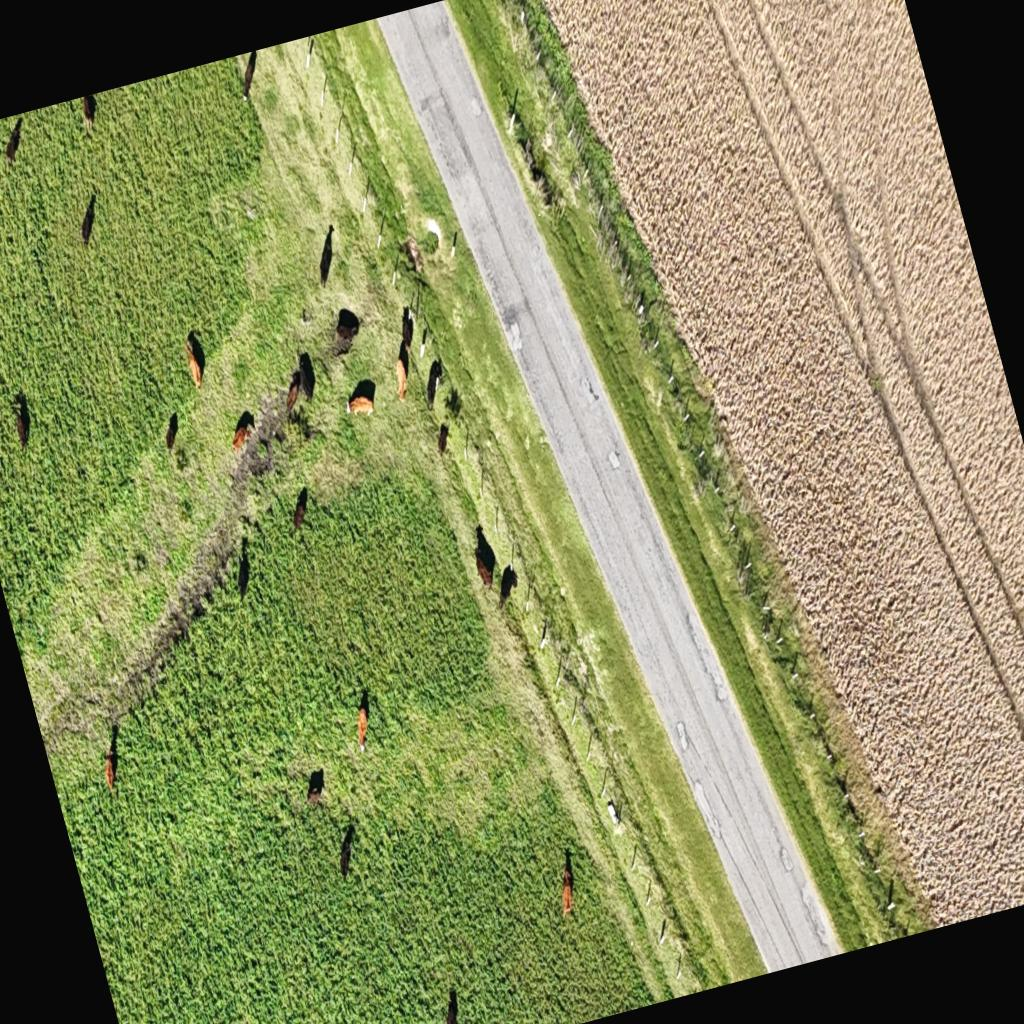cow: (278, 350, 325, 415), (546, 850, 584, 917), (308, 226, 348, 288), (344, 689, 382, 754), (322, 304, 367, 358), (328, 820, 367, 880), (94, 730, 130, 790), (230, 50, 270, 103), (180, 328, 214, 389), (386, 341, 420, 402), (226, 544, 260, 604), (466, 522, 500, 582), (488, 560, 525, 612), (8, 392, 40, 450), (340, 378, 382, 422), (158, 410, 190, 466), (418, 358, 451, 409), (284, 486, 318, 534), (224, 410, 261, 454), (72, 198, 104, 248), (298, 765, 332, 808), (0, 123, 30, 168), (435, 986, 467, 1024), (395, 305, 421, 350), (76, 94, 104, 134), (432, 423, 454, 457)
